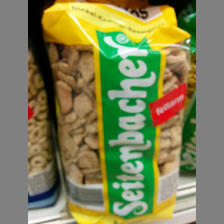cereal: (41, 5, 190, 224)
